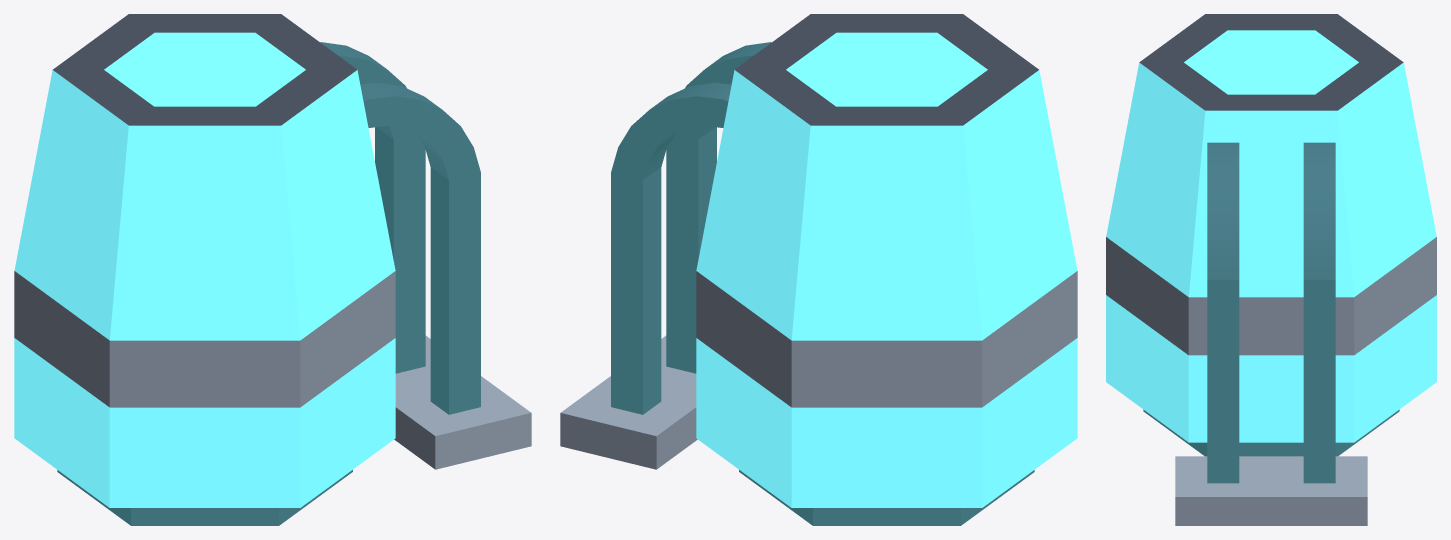
The model's file is machine_barrel.glb.
3 renders of one model, left to right at view 1: azimuth 30°, elevation 25°; view 2: azimuth 150°, elevation 25°; view 3: azimuth 270°, elevation 25°, orthographic. The views are drawn at different scales.
Parts seen in each view (by area): view 1: machine_barrel, cables; view 2: machine_barrel, cables; view 3: machine_barrel, cables.
Part boxes in pixels (x1,y1,x2,y2): machine_barrel: (14, 14, 395, 525); cables: (320, 42, 531, 469); machine_barrel: (696, 14, 1077, 525); cables: (560, 42, 771, 469); machine_barrel: (1106, 14, 1436, 456); cables: (1175, 142, 1367, 525).
Size of the model in its own units: 0.6464 by 0.6 by 0.5155.
